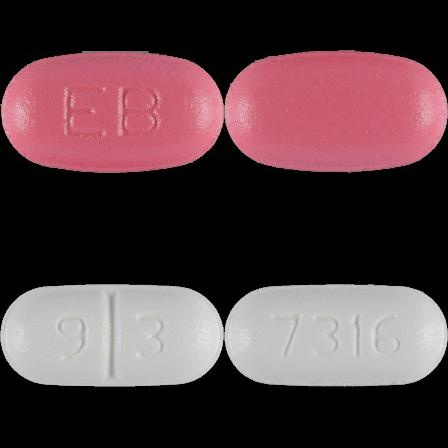68151-1176: (0, 0, 224, 224)
